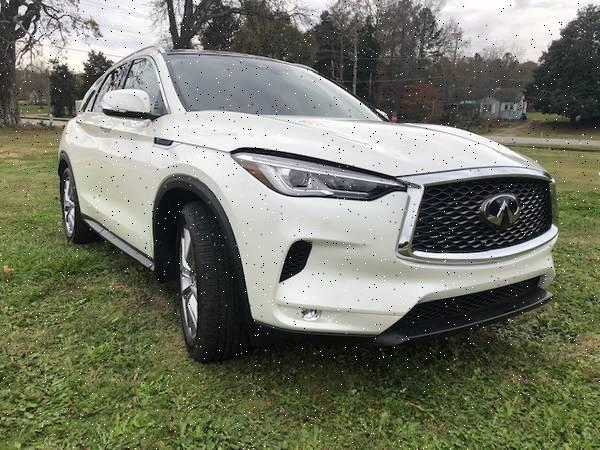Front_Bumper: (214, 191, 559, 342)
Front_Fender: (154, 110, 266, 212)
Front_Right_Door: (95, 118, 161, 268)
Front_Right_Window: (112, 59, 166, 122)
Front_Windshield: (171, 55, 385, 121)
Grille: (398, 170, 561, 266)
Hood: (199, 110, 552, 179)
Rear_Right_Door: (57, 115, 104, 222)
Rear_Right_Window: (78, 70, 121, 117)
Right_Headlight: (231, 148, 408, 202)
Roof: (98, 48, 314, 116)
Wheel: (172, 201, 240, 368), (58, 173, 79, 241)
